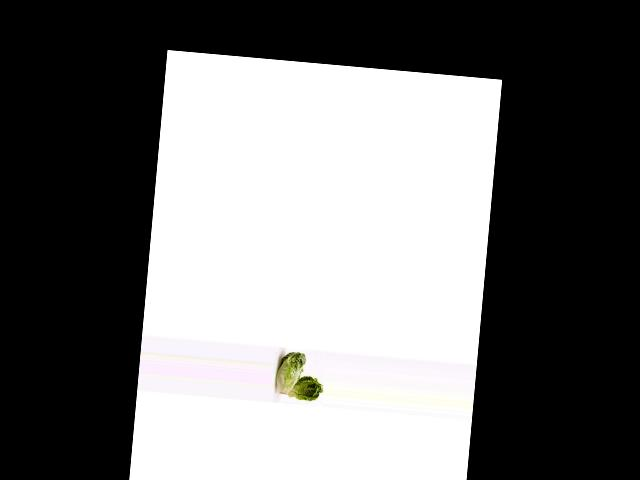lettuce: (273, 347, 309, 399)
